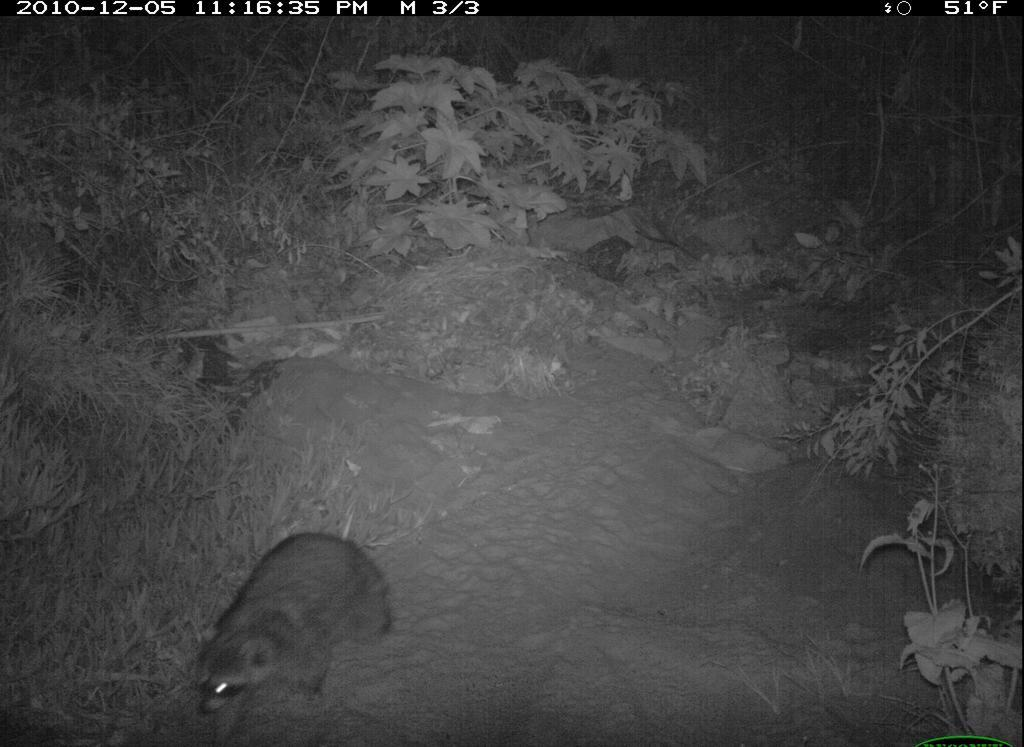raccoon: (187, 475, 415, 728)
